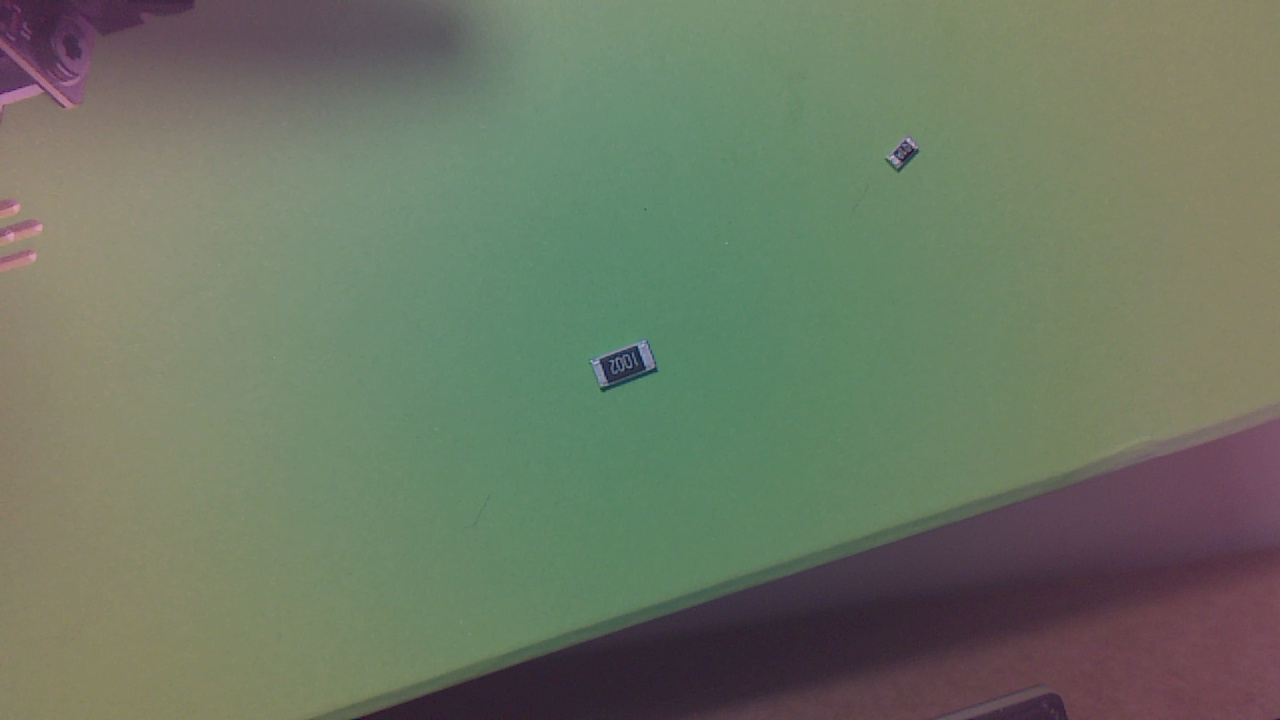Resistor: (577, 340, 647, 396), (893, 140, 925, 178)
